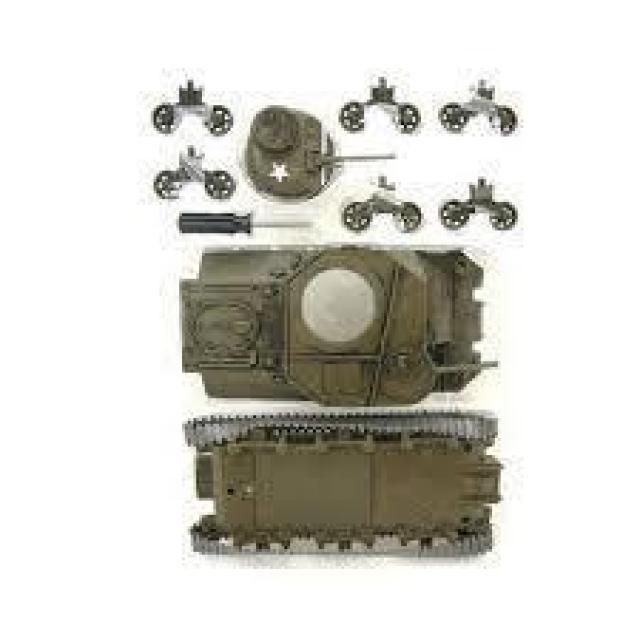Tanks: (175, 235, 485, 411), (182, 414, 498, 562)
